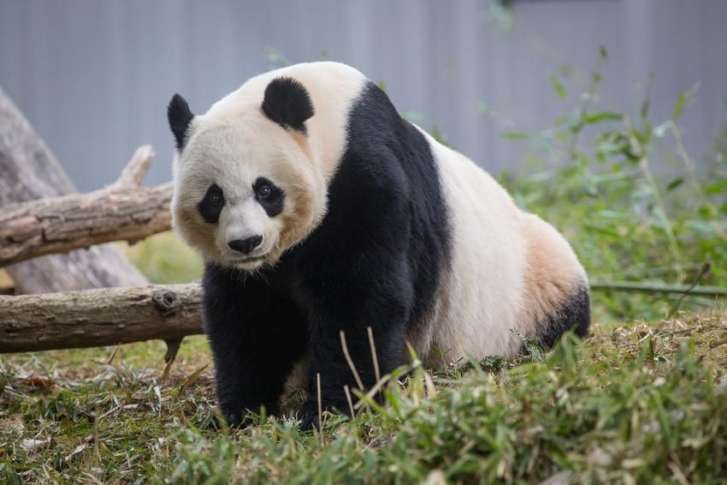panda: (133, 38, 619, 438)
